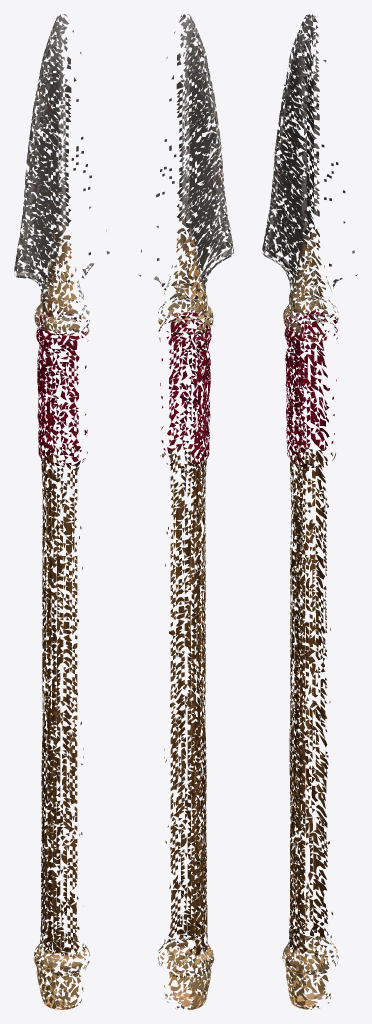
File: b_spear.glb
The picture shows the model from 3 angles, left to right: view 1: azimuth 30°, elevation 25°; view 2: azimuth 210°, elevation 25°; view 3: azimuth 330°, elevation 25°; orthographic projection.
Parts seen in each view (by area): view 1: shape_clean_textured; view 2: shape_clean_textured; view 3: shape_clean_textured.
Boxes of the visible parts, box(x1,y1,x2,y2) form: shape_clean_textured: box(14, 14, 109, 1009); shape_clean_textured: box(138, 14, 233, 1009); shape_clean_textured: box(262, 14, 357, 1009).
Bounding box in the file's own units: 0.1996 × 1.99 × 0.1048.
Materials: 1 (1 with a texture image).
